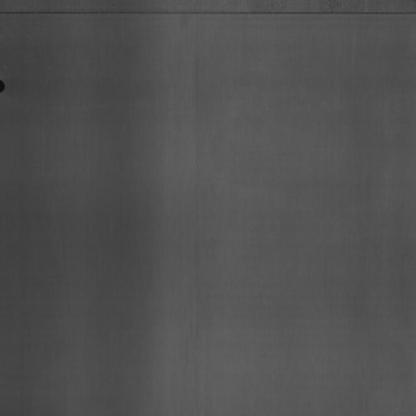punching_hole: (0, 77, 5, 93)
welding_line: (0, 6, 416, 27)
